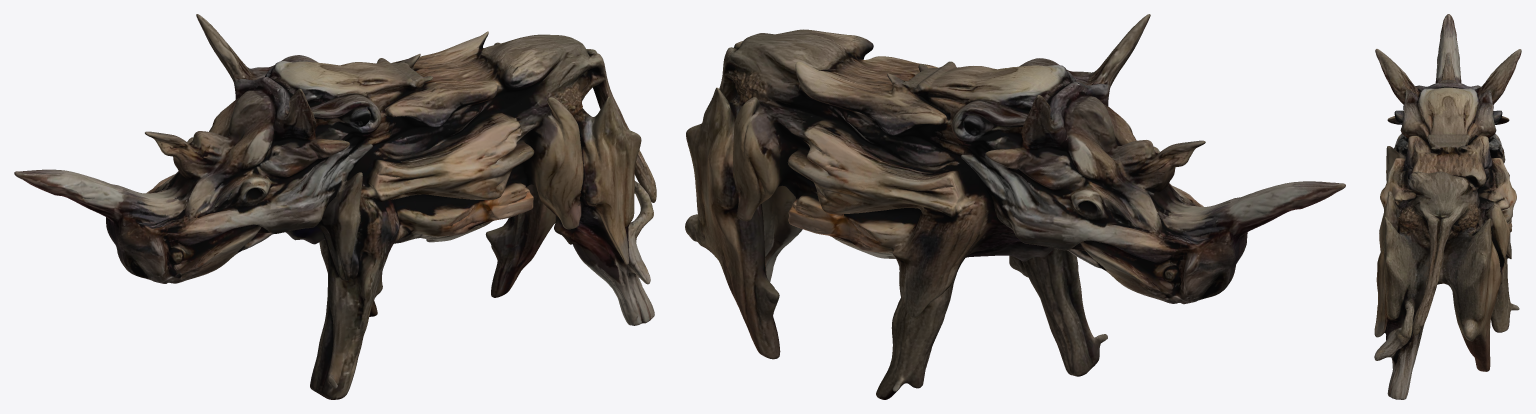
Rendered from tegiac-v1.glb.
The picture shows the model from 3 angles, left to right: view 1: azimuth 30°, elevation 25°; view 2: azimuth 150°, elevation 25°; view 3: azimuth 270°, elevation 25°; orthographic projection. The views are drawn at different scales.
Visible parts, largest first — view 1: tripo_node_e51d2368-6eac-4a89-8e3b-71fc69385c32; view 2: tripo_node_e51d2368-6eac-4a89-8e3b-71fc69385c32; view 3: tripo_node_e51d2368-6eac-4a89-8e3b-71fc69385c32.
Boxes of the visible parts, box(x1,y1,x2,y2) form: tripo_node_e51d2368-6eac-4a89-8e3b-71fc69385c32: box(14, 14, 656, 399); tripo_node_e51d2368-6eac-4a89-8e3b-71fc69385c32: box(685, 14, 1345, 399); tripo_node_e51d2368-6eac-4a89-8e3b-71fc69385c32: box(1374, 14, 1521, 399).
Size of the model in its own units: 0.9987 by 0.5099 by 0.296.
Materials: 1 (1 with a texture image).
